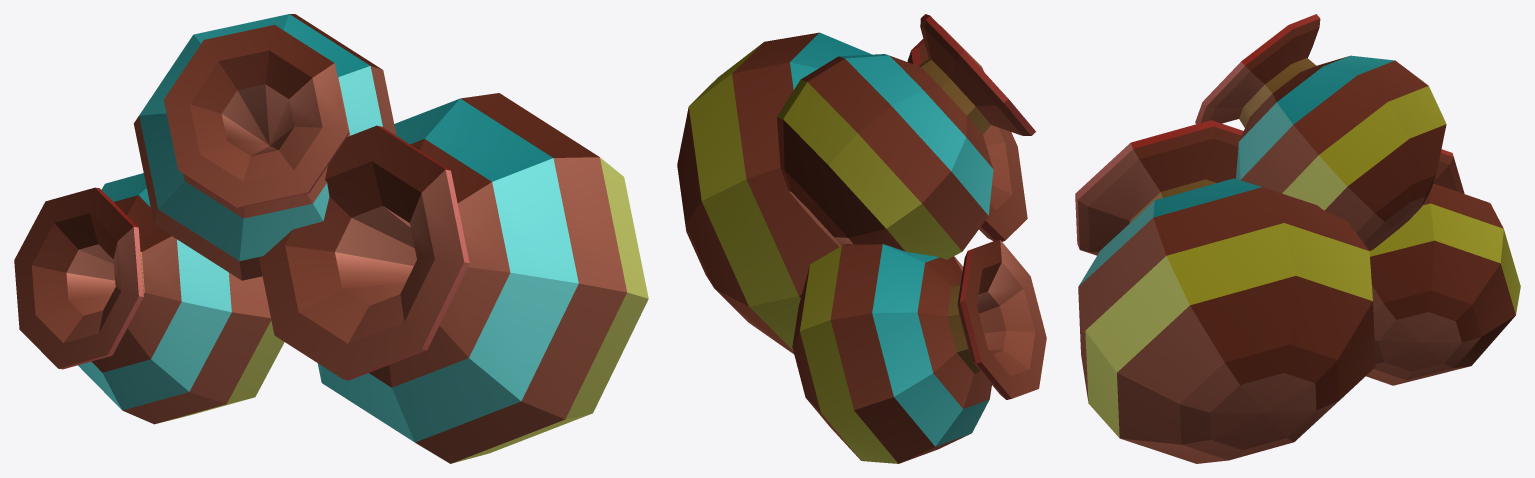
File: Vasijas.Prop.1.fbx
3 views of the same model, side by side, from view 1: azimuth 30°, elevation 25°; view 2: azimuth 150°, elevation 25°; view 3: azimuth 270°, elevation 25° (orthographic). The views are drawn at different scales.
Visible parts, largest first — view 1: Vasija; view 2: Vasija; view 3: Vasija.
Boxes of the visible parts, bbox=[...] form: Vasija: bbox=[14, 14, 648, 463]; Vasija: bbox=[677, 14, 1046, 463]; Vasija: bbox=[1075, 14, 1520, 463].
Size of the model in its own units: 115 by 101 by 110.
